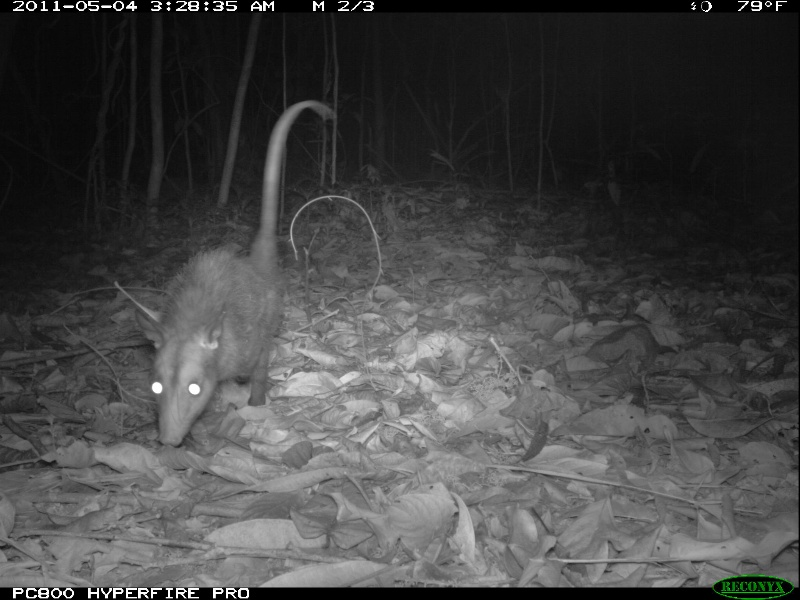opossum: (115, 99, 339, 456)
